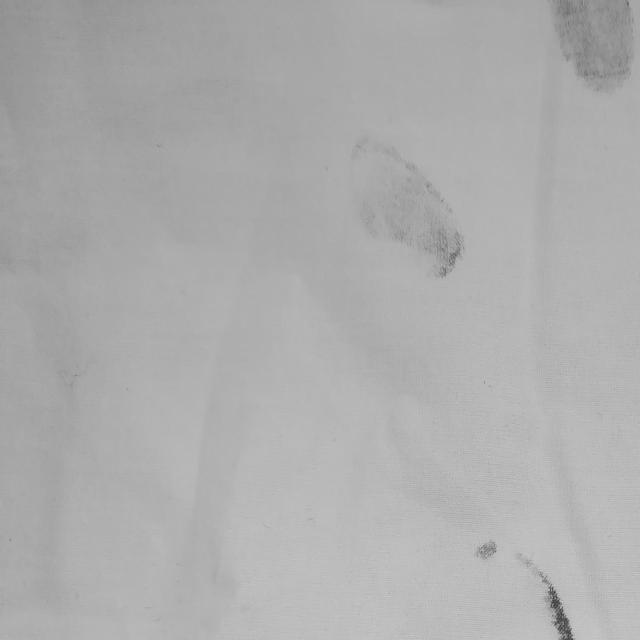Stain: (351, 137, 465, 277), (551, 0, 635, 91), (517, 554, 575, 640), (476, 541, 498, 561)
